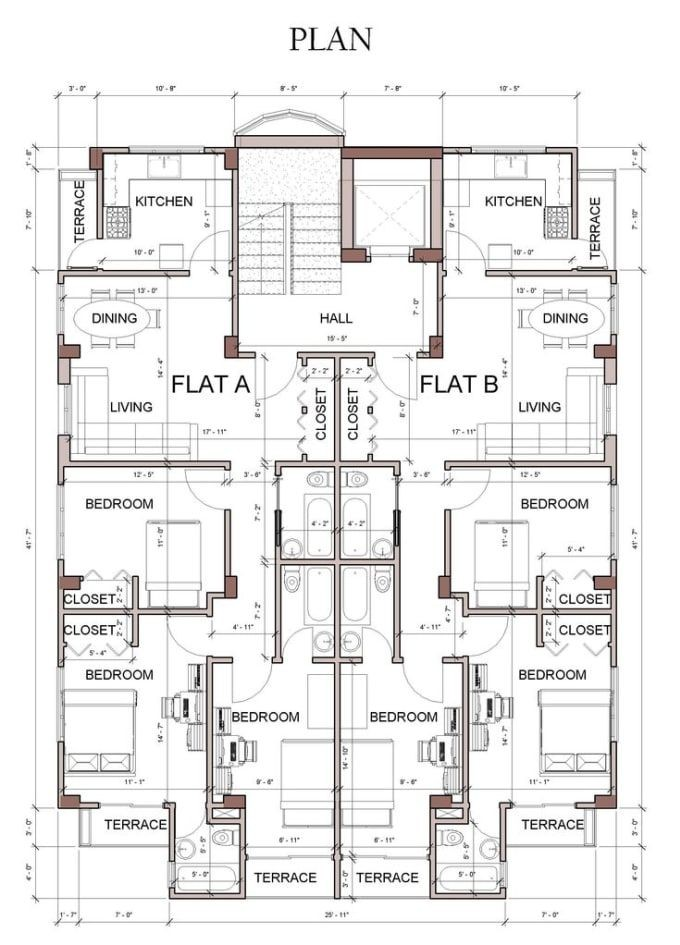door: (249, 352, 303, 429), (453, 602, 513, 668), (431, 465, 510, 512), (176, 465, 244, 512), (367, 350, 420, 408), (227, 652, 273, 705), (276, 612, 319, 668), (167, 610, 213, 662), (400, 660, 449, 703), (354, 620, 397, 668)
room: (227, 126, 446, 352), (427, 263, 627, 475), (41, 263, 237, 473), (431, 450, 623, 625), (56, 456, 244, 629), (457, 653, 614, 805), (59, 660, 210, 813), (90, 138, 241, 280)
wall: (329, 358, 346, 899), (331, 148, 370, 265), (440, 453, 609, 475), (54, 450, 236, 470), (413, 152, 444, 269), (437, 510, 470, 605), (486, 263, 617, 286), (54, 263, 190, 285), (226, 130, 347, 150), (341, 138, 449, 160), (91, 153, 113, 230), (590, 343, 629, 385)
